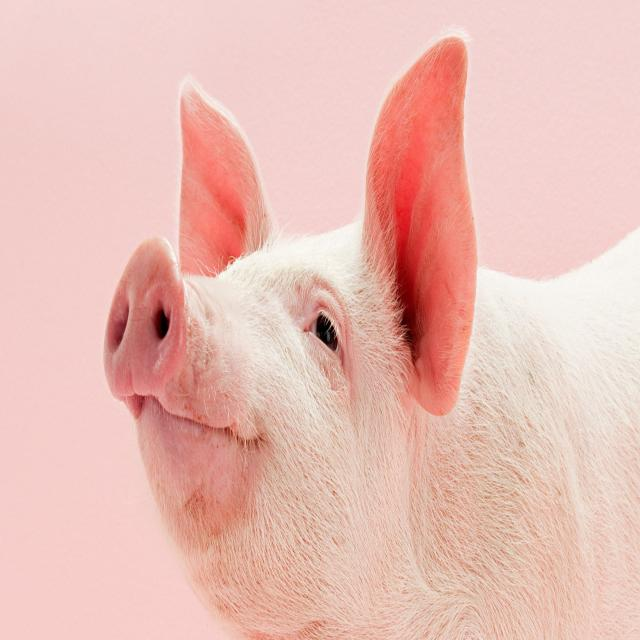Pig: (105, 28, 640, 640)
